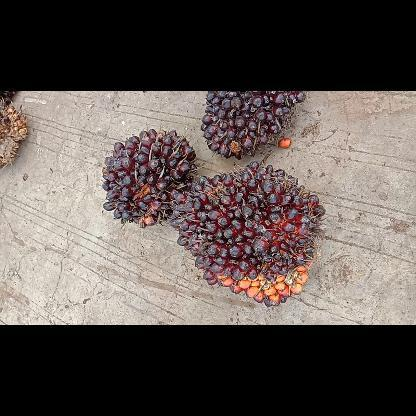TBS mentah: (168, 162, 328, 308), (100, 127, 198, 231), (197, 90, 308, 162)
